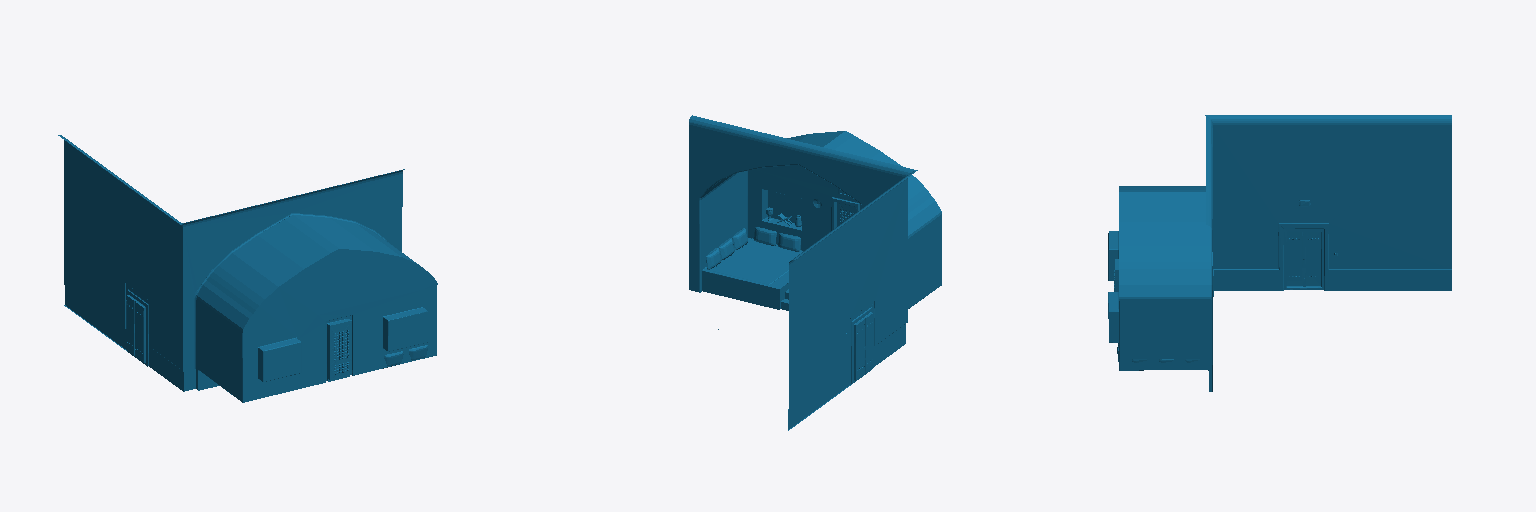
The model's file is WallsAndTerrace.obj.
3 renders of one model, left to right at view 1: azimuth 30°, elevation 25°; view 2: azimuth 150°, elevation 25°; view 3: azimuth 270°, elevation 25°, orthographic.
Parts seen in each view (by area): view 1: object0.002; view 2: object0.002; view 3: object0.002.
Boxes of the visible parts, box(x1,y1,x2,y2) form: object0.002: box(58, 135, 437, 402); object0.002: box(689, 115, 941, 430); object0.002: box(1108, 115, 1451, 391).
Bounding box in the file's own units: 10.62 × 7.74 × 13.97.